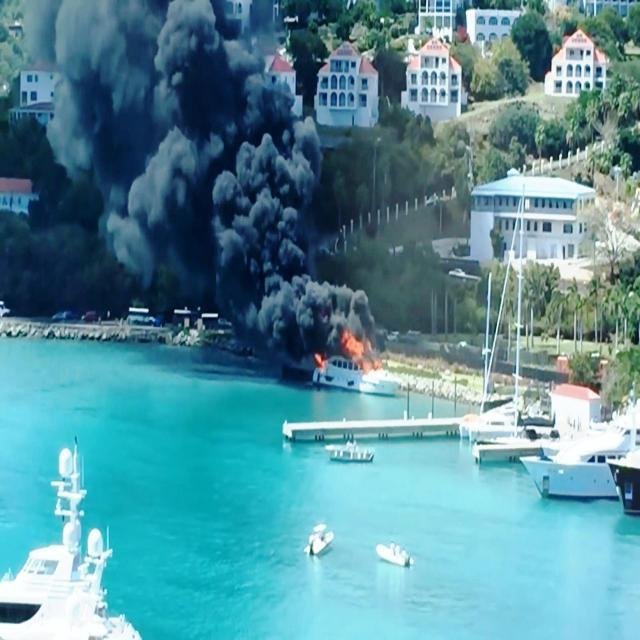Fire: (342, 335, 388, 375), (314, 346, 326, 369)
Smoke: (124, 0, 308, 266), (18, 0, 251, 133), (230, 132, 298, 323), (260, 268, 366, 345)
